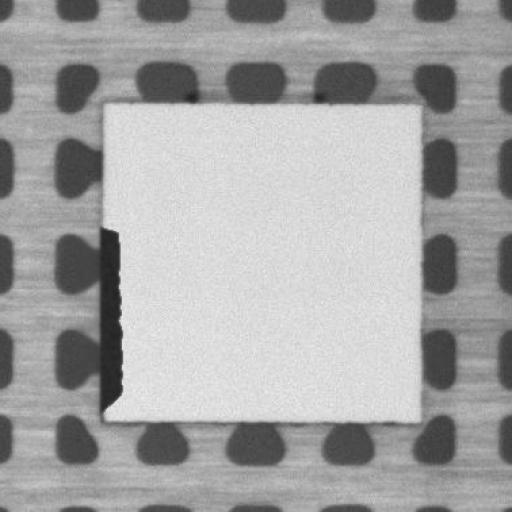DIE_BROKEN: (95, 218, 124, 410)
